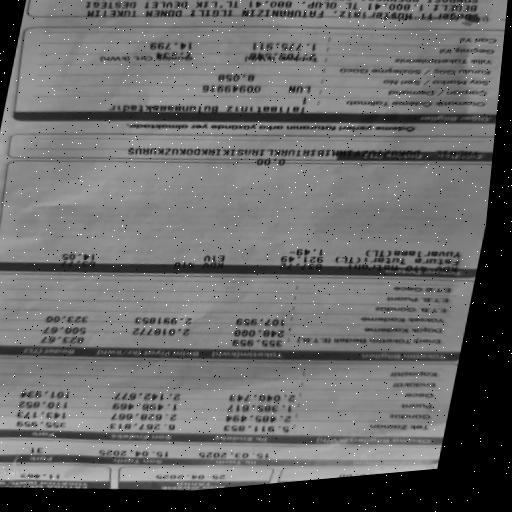electricity-bill: (0, 0, 508, 490)
